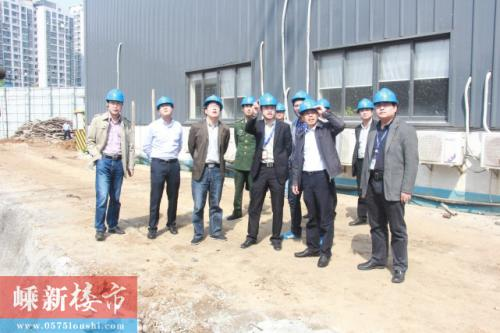boots: (357, 258, 385, 270), (294, 247, 320, 256), (391, 269, 405, 282), (317, 255, 331, 267), (349, 216, 367, 225), (226, 210, 242, 220), (282, 231, 301, 239), (240, 238, 256, 247), (108, 226, 125, 234), (271, 238, 282, 250), (191, 234, 204, 244), (147, 227, 157, 239), (210, 232, 227, 239), (166, 224, 177, 234), (95, 231, 105, 241), (273, 240, 282, 249)
hard-hat: (373, 88, 399, 105), (203, 95, 223, 110), (298, 98, 319, 112), (105, 87, 124, 101), (156, 95, 174, 109), (356, 97, 374, 111), (258, 93, 277, 106), (291, 90, 308, 103), (240, 95, 257, 105), (317, 98, 331, 109), (276, 103, 286, 112)
person: (357, 87, 420, 283), (290, 99, 345, 267), (240, 93, 293, 249), (86, 88, 136, 240), (187, 95, 229, 243), (142, 96, 184, 238), (281, 89, 310, 239), (225, 95, 257, 219), (349, 97, 378, 225)
